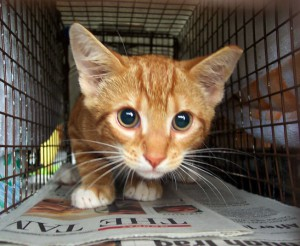Cat: (50, 17, 251, 214)
